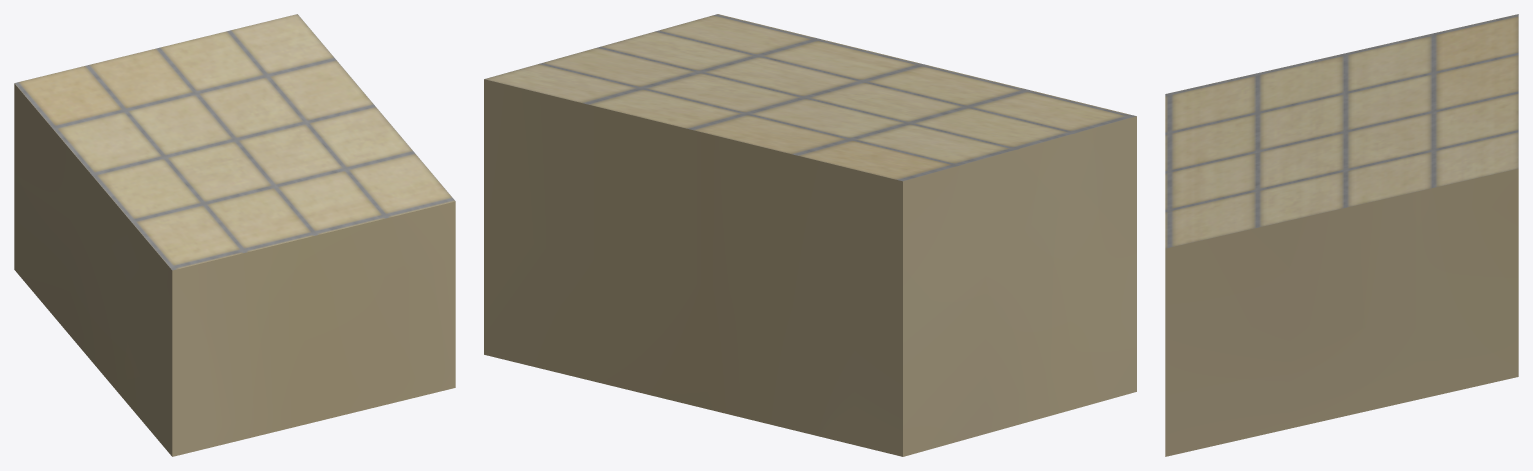
Rendered from set_floor_03_slope_loop_half.fbx.
3 views of the same model, side by side, from view 1: azimuth 30°, elevation 25°; view 2: azimuth 150°, elevation 25°; view 3: azimuth 270°, elevation 25° (orthographic). The views are drawn at different scales.
Parts seen in each view (by area): view 1: set_floor_03_slope_loop_half; view 2: set_floor_03_slope_loop_half; view 3: set_floor_03_slope_loop_half.
Part boxes in pixels (<box>): set_floor_03_slope_loop_half: <box>14,14,455,456</box>; set_floor_03_slope_loop_half: <box>484,14,1136,456</box>; set_floor_03_slope_loop_half: <box>1165,14,1518,456</box>.
Size of the model in its own units: 100 by 87 by 96.64.
